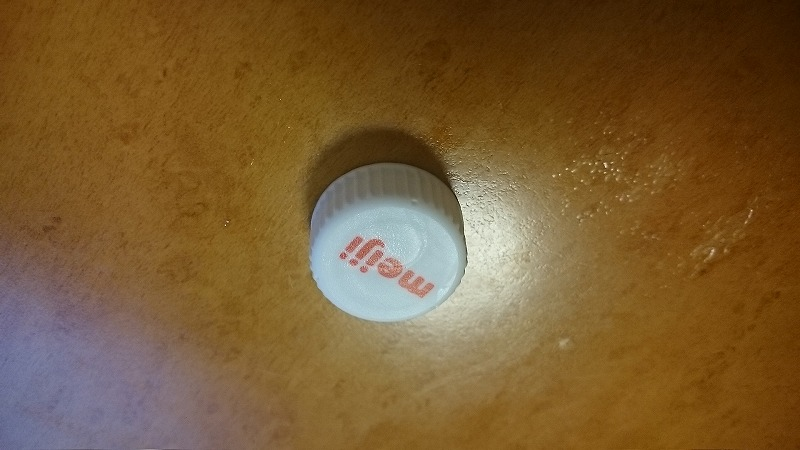B: (284, 151, 481, 335)
